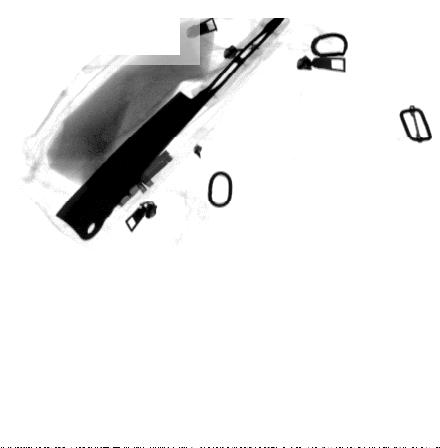Knife: (54, 12, 287, 243)
